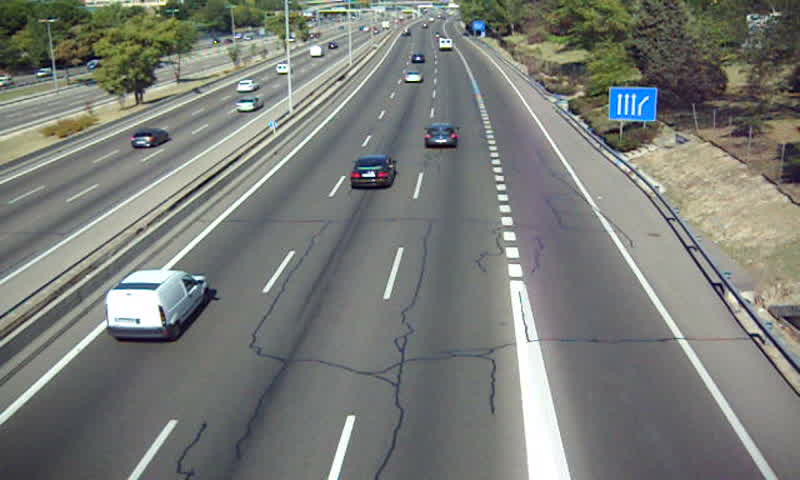car: (350, 156, 397, 187), (424, 123, 457, 148), (404, 70, 424, 83), (409, 53, 426, 66)
van: (106, 271, 208, 340)
